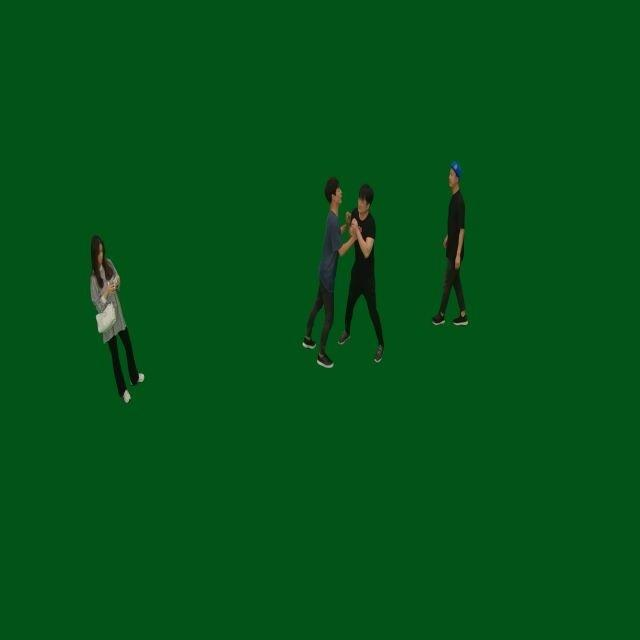fight: (300, 176, 388, 372)
non-fight: (86, 231, 144, 405), (431, 162, 471, 326)
